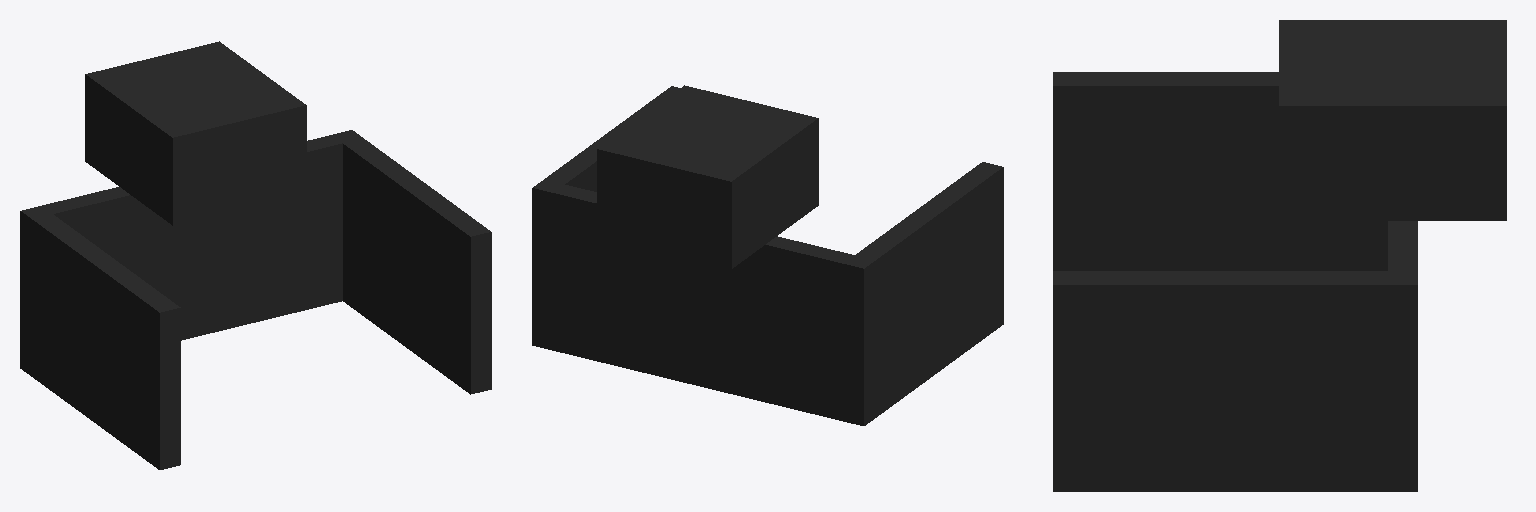
robot.urdf — ur3_final:
<?xml version="1.0" ?>
<robot name="ur3_final">

  <link name="base_link"/>

  <link name="base_link_inertia">
    <visual>
      <origin rpy="0 0 3.14159265359" xyz="0 0 0"/>
      <geometry>
        <mesh filename="meshes/ur3/visual/base.dae"/>
      </geometry>
      <material name="LightGrey"><color rgba="0.7 0.7 0.7 1.0"/></material>
    </visual>
    <collision>
      <origin rpy="0 0 3.14159265359" xyz="0 0 0"/>
      <geometry>
        <mesh filename="meshes/ur3/collision/base.stl"/>
      </geometry>
    </collision>
    <inertial>
      <mass value="2.0"/>
      <origin rpy="0 0 0" xyz="0 0 0"/>
      <inertia ixx="0.00305" ixy="0.0" ixz="0.0" iyy="0.00305" iyz="0.0" izz="0.005625"/>
    </inertial>
  </link>

  <link name="shoulder_link">
    <visual>
      <origin rpy="0 0 3.14159265359" xyz="0 0 0"/>
      <geometry>
        <mesh filename="meshes/ur3/visual/shoulder.dae"/>
      </geometry>
      <material name="LightGrey"/>
    </visual>
    <collision>
      <origin rpy="0 0 3.14159265359" xyz="0 0 0"/>
      <geometry>
        <mesh filename="meshes/ur3/collision/shoulder.stl"/>
      </geometry>
    </collision>
    <inertial>
      <mass value="2.0"/>
      <origin rpy="0 0 0" xyz="0 0 0"/>
      <inertia ixx="0.00809" ixy="0.0" ixz="0.0" iyy="0.00809" iyz="0.0" izz="0.005625"/>
    </inertial>
  </link>

  <link name="upper_arm_link">
    <visual>
      <origin rpy="1.57079632679 0 -1.57079632679" xyz="0 0 0.1198"/>
      <geometry>
        <mesh filename="meshes/ur3/visual/upperarm.dae"/>
      </geometry>
      <material name="LightGrey"/>
    </visual>
    <collision>
      <origin rpy="1.57079632679 0 -1.57079632679" xyz="0 0 0.1198"/>
      <geometry>
        <mesh filename="meshes/ur3/collision/upperarm.stl"/>
      </geometry>
    </collision>
    <inertial>
      <mass value="3.42"/>
      <origin rpy="0 1.57079632679 0" xyz="-0.121825 0.0 0.12"/>
      <inertia ixx="0.02172" ixy="0.0" ixz="0.0" iyy="0.02172" iyz="0.0" izz="0.00961"/>
    </inertial>
  </link>

  <link name="forearm_link">
    <visual>
      <origin rpy="1.57079632679 0 -1.57079632679" xyz="0 0 0.0275"/>
      <geometry>
        <mesh filename="meshes/ur3/visual/forearm.dae"/>
      </geometry>
      <material name="LightGrey"/>
    </visual>
    <collision>
      <origin rpy="1.57079632679 0 -1.57079632679" xyz="0 0 0.0275"/>
      <geometry>
        <mesh filename="meshes/ur3/collision/forearm.stl"/>
      </geometry>
    </collision>
    <inertial>
      <mass value="1.26"/>
      <origin rpy="0 1.57079632679 0" xyz="-0.106625 0.0 0.0275"/>
      <inertia ixx="0.00654" ixy="0.0" ixz="0.0" iyy="0.00654" iyz="0.0" izz="0.00354"/>
    </inertial>
  </link>

  <link name="wrist_1_link">
    <visual>
      <origin rpy="1.57079632679 0 0" xyz="0 0 -0.085"/>
      <geometry>
        <mesh filename="meshes/ur3/visual/wrist1.dae"/>
      </geometry>
      <material name="LightGrey"/>
    </visual>
    <collision>
      <origin rpy="1.57079632679 0 0" xyz="0 0 -0.085"/>
      <geometry>
        <mesh filename="meshes/ur3/collision/wrist1.stl"/>
      </geometry>
    </collision>
    <inertial>
      <mass value="0.8"/>
      <origin rpy="0 0 0" xyz="0 0 0"/>
      <inertia ixx="0.00161" ixy="0.0" ixz="0.0" iyy="0.00161" iyz="0.0" izz="0.00225"/>
    </inertial>
  </link>

  <link name="wrist_2_link">
    <visual>
      <origin rpy="0 0 0" xyz="0 0 -0.085"/>
      <geometry>
        <mesh filename="meshes/ur3/visual/wrist2.dae"/>
      </geometry>
      <material name="LightGrey"/>
    </visual>
    <collision>
      <origin rpy="0 0 0" xyz="0 0 -0.085"/>
      <geometry>
        <mesh filename="meshes/ur3/collision/wrist2.stl"/>
      </geometry>
    </collision>
    <inertial>
      <mass value="0.8"/>
      <origin rpy="0 0 0" xyz="0 0 0"/>
      <inertia ixx="0.00157" ixy="0.0" ixz="0.0" iyy="0.00157" iyz="0.0" izz="0.00225"/>
    </inertial>
  </link>

  <link name="wrist_3_link">
    <visual>
      <origin rpy="1.57079632679 0 0" xyz="0 0 -0.082"/>
      <geometry>
        <mesh filename="meshes/ur3/visual/wrist3.dae"/>
      </geometry>
      <material name="LightGrey"/>
    </visual>
    <collision>
      <origin rpy="1.57079632679 0 0" xyz="0 0 -0.082"/>
      <geometry>
        <mesh filename="meshes/ur3/collision/wrist3.stl"/>
      </geometry>
    </collision>
    <inertial>
      <mass value="0.35"/>
      <origin rpy="0 0 0" xyz="0.0 0.0 -0.02"/>
      <inertia ixx="0.00013" ixy="0.0" ixz="0.0" iyy="0.00013" iyz="0.0" izz="0.00017"/>
    </inertial>
  </link>

  <link name="tool0">
    <inertial>
      <origin rpy="0 0 0" xyz="0 0 0"/>
      <mass value="0.001"/>
      <inertia ixx="0.00001" ixy="0" ixz="0" iyy="0.00001" iyz="0" izz="0.00001"/>
    </inertial>
  </link>

  <joint name="base_link-base_link_inertia" type="fixed">
    <parent link="base_link"/>
    <child link="base_link_inertia"/>
    <origin rpy="0 0 3.14159265359" xyz="0 0 0"/>
  </joint>

  <joint name="shoulder_pan_joint" type="revolute">
    <parent link="base_link_inertia"/>
    <child link="shoulder_link"/>
    <origin rpy="0 0 0" xyz="0 0 0.1519"/>
    <axis xyz="0 0 1"/>
    <limit effort="56.0" lower="-6.28" upper="6.28" velocity="3.14"/>
  </joint>

  <joint name="shoulder_lift_joint" type="revolute">
    <parent link="shoulder_link"/>
    <child link="upper_arm_link"/>
    <origin rpy="1.570796327 0 0" xyz="0 0 0"/>
    <axis xyz="0 0 1"/>
    <limit effort="56.0" lower="-6.28" upper="6.28" velocity="3.14"/>
  </joint>

  <joint name="elbow_joint" type="revolute">
    <parent link="upper_arm_link"/>
    <child link="forearm_link"/>
    <origin rpy="0 0 0" xyz="-0.24365 0 0"/>
    <axis xyz="0 0 1"/>
    <limit effort="28.0" lower="-3.14" upper="3.14" velocity="3.14"/>
  </joint>

  <joint name="wrist_1_joint" type="revolute">
    <parent link="forearm_link"/>
    <child link="wrist_1_link"/>
    <origin rpy="0 0 0" xyz="-0.21325 0 0.11235"/>
    <axis xyz="0 0 1"/>
    <limit effort="12.0" lower="-6.28" upper="6.28" velocity="6.28"/>
  </joint>

  <joint name="wrist_2_joint" type="revolute">
    <parent link="wrist_1_link"/>
    <child link="wrist_2_link"/>
    <origin rpy="1.570796327 0 0" xyz="0 -0.08535 0"/>
    <axis xyz="0 0 1"/>
    <limit effort="12.0" lower="-6.28" upper="6.28" velocity="6.28"/>
  </joint>

  <joint name="wrist_3_joint" type="revolute">
    <parent link="wrist_2_link"/>
    <child link="wrist_3_link"/>
    <origin rpy="1.570796327 3.14159265359 3.14159265359" xyz="0 0.0819 0"/>
    <axis xyz="0 0 1"/>
    <limit effort="12.0" lower="-6.28" upper="6.28" velocity="6.28"/>
  </joint>

  <joint name="wrist_3-tool0" type="fixed">
    <parent link="wrist_3_link"/>
    <child link="tool0"/>
    <origin rpy="0 0 0" xyz="0 0 0"/>
  </joint>
  
  <link name="gripper_link">
    <inertial>
      <origin rpy="0 0 0" xyz="0 0 0.05"/>
      <mass value="0.2"/>
      <inertia ixx="0.01" ixy="0" ixz="0" iyy="0.01" iyz="0" izz="0.01"/>
    </inertial>
    
    <visual>
      <origin rpy="0 0 0" xyz="0 0 0"/>
      <geometry>
        <mesh filename="./meshes/gripper/gripper_pybullet.obj" scale="1.0 1.0 1.0"/>
      </geometry>
      <material name="DarkGrey">
        <color rgba="0.2 0.2 0.2 1.0"/>
      </material>
    </visual>

    <collision>
      <origin rpy="0 0 0" xyz="0 0 0"/>
      <geometry>
        <mesh filename="./meshes/gripper/gripper_pybullet.stl" scale="1.0 1.0 1.0"/>
      </geometry>
    </collision>
  </link>

  <joint name="tool0_to_gripper" type="fixed">
    <parent link="tool0"/>
    <child link="gripper_link"/>
    <origin rpy="-1.570796327 0 0" xyz="0 0 0"/> 
  </joint>

</robot>

--- What the picture shows (computed from the rendered views, not written in the file) ---
The picture shows the robot from 3 angles, left to right: view 1: azimuth 30°, elevation 25°; view 2: azimuth 150°, elevation 25°; view 3: azimuth 270°, elevation 25°; orthographic projection.
Robot: ur3_final — 10 links, 9 joints (6 revolute, 3 fixed); root link base_link; default pose: every joint at zero.
Links seen in each view (by area): view 1: gripper_link; view 2: gripper_link; view 3: gripper_link.
Boxes of the visible links, box(x1,y1,x2,y2) form: gripper_link: box(20, 41, 491, 469); gripper_link: box(532, 85, 1003, 425); gripper_link: box(1053, 20, 1506, 491).
Size in the robot's own frame: 0.198 by 0.179 by 0.14 metres.
1 mesh visuals loaded from 8 distinct referenced files (1 OBJ); not drawn: 7 (reference not matched to a file when rendering).